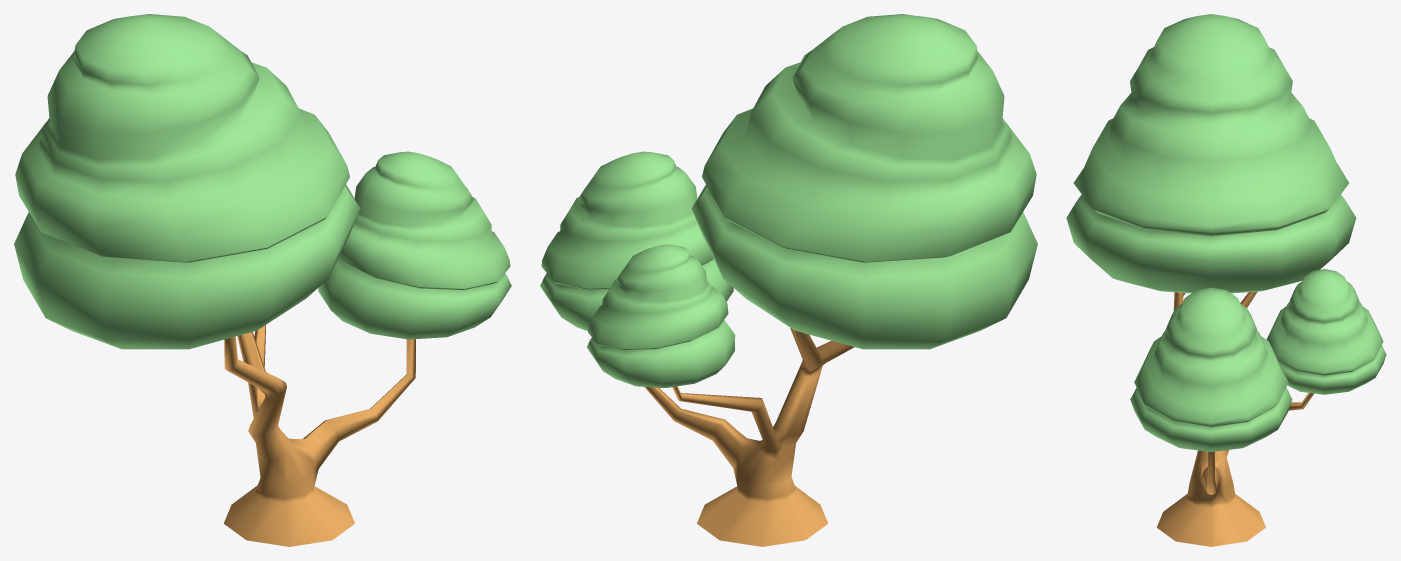
The model's file is tree3.fbx.
The picture shows the model from 3 angles, left to right: view 1: azimuth 30°, elevation 25°; view 2: azimuth 150°, elevation 25°; view 3: azimuth 270°, elevation 25°; orthographic projection. The views are drawn at different scales.
Visible parts, largest first — view 1: pCylinder2, pCylinder3, pCylinder1; view 2: pCylinder2, pCylinder3, pCylinder4, pCylinder1; view 3: pCylinder2, pCylinder3, pCylinder4, pCylinder1.
Boxes of the visible parts, x1=… form: pCylinder2: x1=14, y1=14, x2=360, y2=349; pCylinder3: x1=318, y1=151, x2=511, y2=339; pCylinder1: x1=224, y1=325, x2=415, y2=546; pCylinder2: x1=691, y1=14, x2=1037, y2=349; pCylinder3: x1=540, y1=151, x2=733, y2=330; pCylinder4: x1=587, y1=244, x2=735, y2=387; pCylinder1: x1=644, y1=327, x2=854, y2=546; pCylinder2: x1=1066, y1=14, x2=1356, y2=293; pCylinder3: x1=1130, y1=287, x2=1292, y2=451; pCylinder4: x1=1266, y1=269, x2=1386, y2=394; pCylinder1: x1=1157, y1=291, x2=1313, y2=546.
Size of the model in its own units: 15.83 by 17.32 by 11.34.
